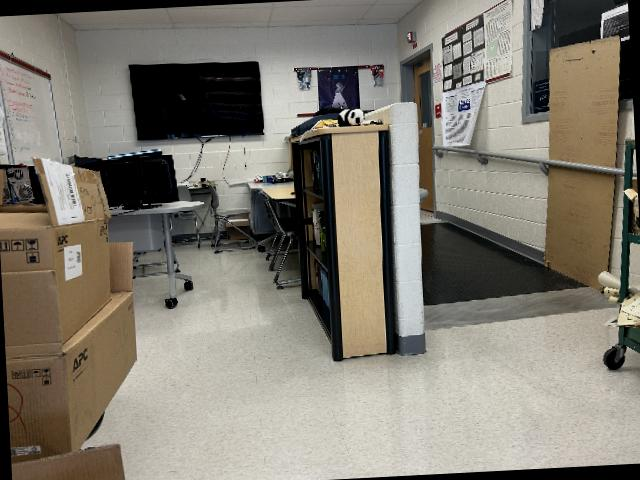panda_plushie: (338, 108, 366, 126)
